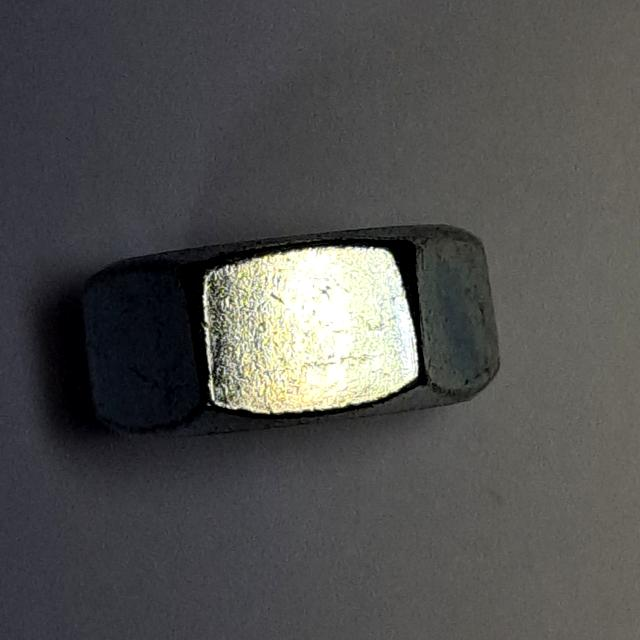Side_Excellent: (66, 211, 522, 455)
